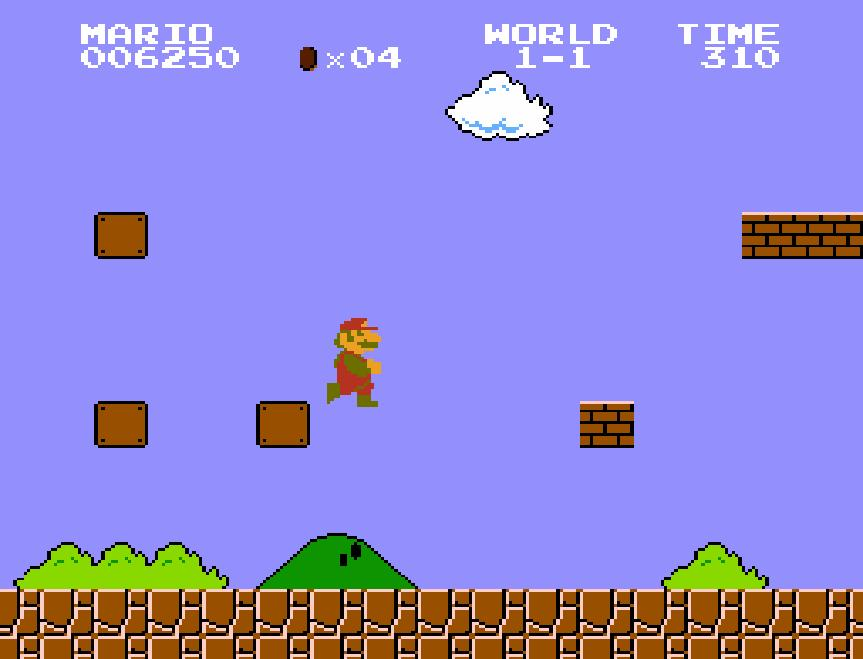big_mario: (324, 310, 382, 408)
